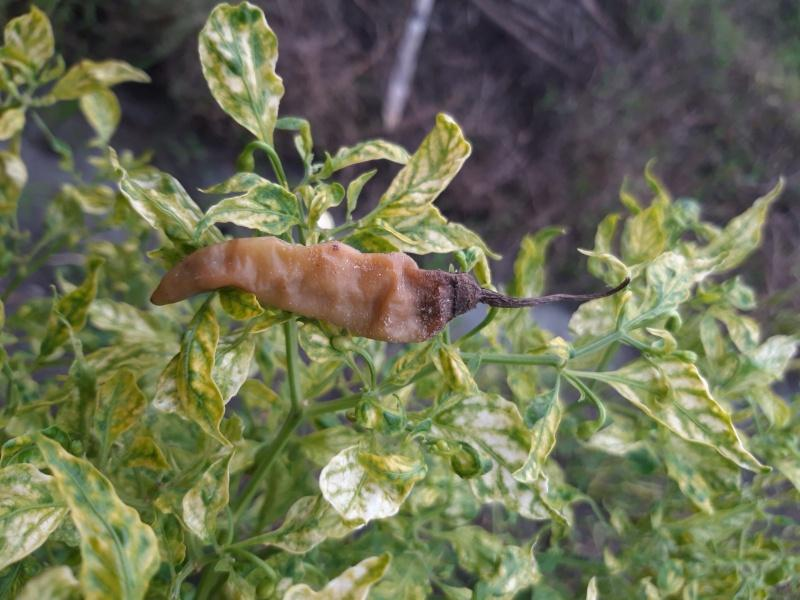lalat_buah: (150, 236, 484, 345)
